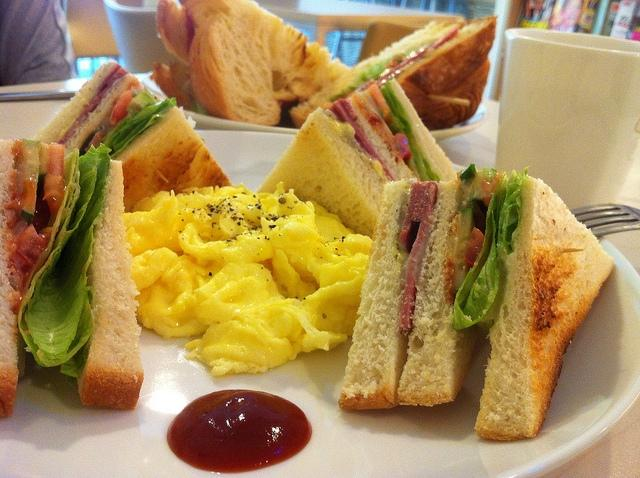lettuce: (18, 142, 112, 379), (329, 62, 388, 102)
